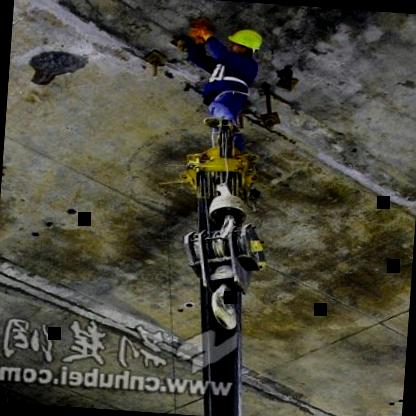helmet: (225, 25, 267, 60)
